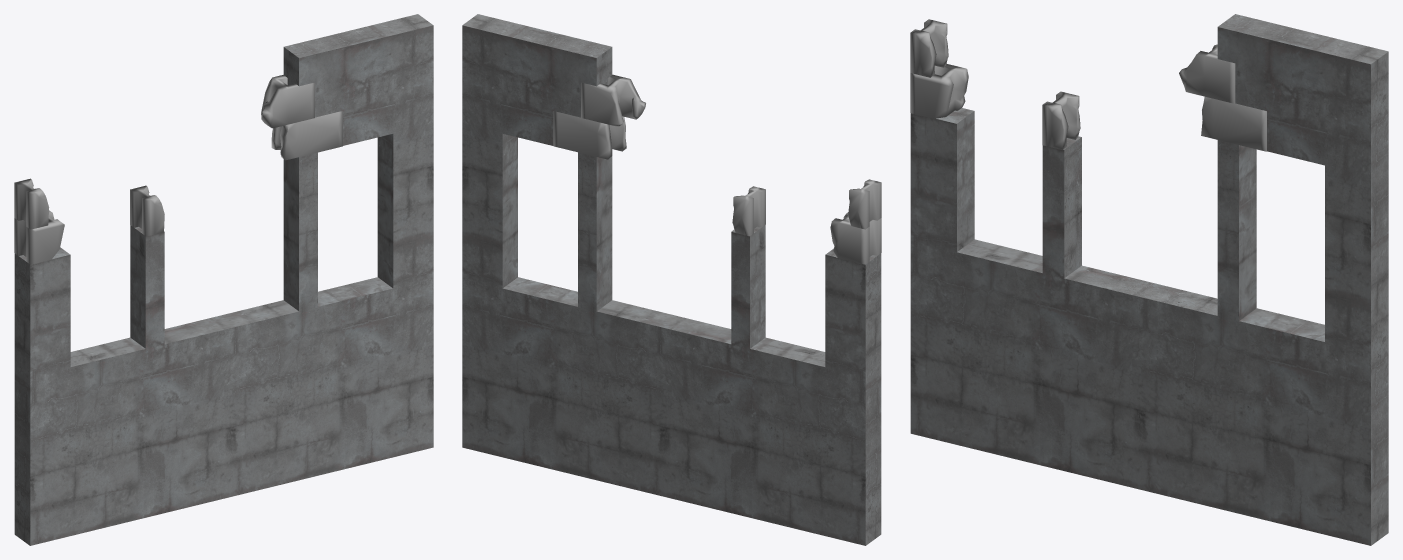
The model's file is wall_3window_01_Broken_01.fbx.
3 views of the same model, side by side, from view 1: azimuth 30°, elevation 25°; view 2: azimuth 150°, elevation 25°; view 3: azimuth 330°, elevation 25° (orthographic). The views are drawn at different scales.
Visible parts, largest first — view 1: wall_3window_01_Broken_01; view 2: wall_3window_01_Broken_01; view 3: wall_3window_01_Broken_01.
Part boxes in pixels (x1,y1,x2,y2): wall_3window_01_Broken_01: (14,14,433,545); wall_3window_01_Broken_01: (462,14,881,545); wall_3window_01_Broken_01: (910,14,1388,545).
Bounding box in the file's own units: 300 × 300 × 20.94.
Materials: 2 (1 with a texture image).
